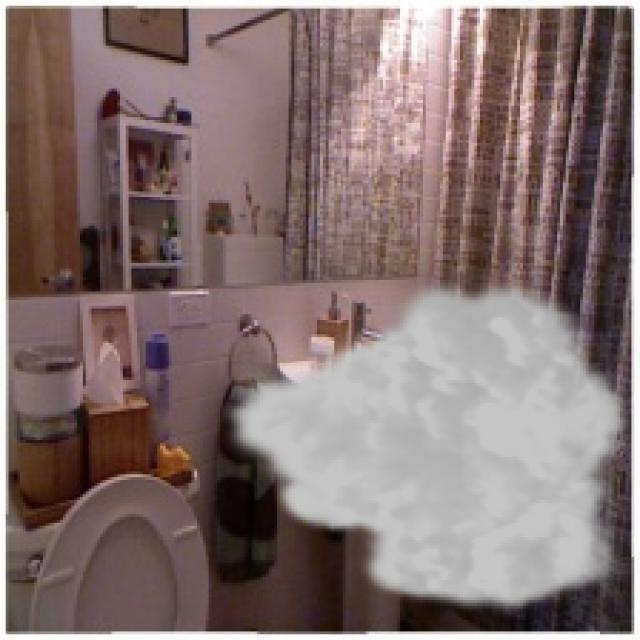smoke: (217, 272, 632, 617)
